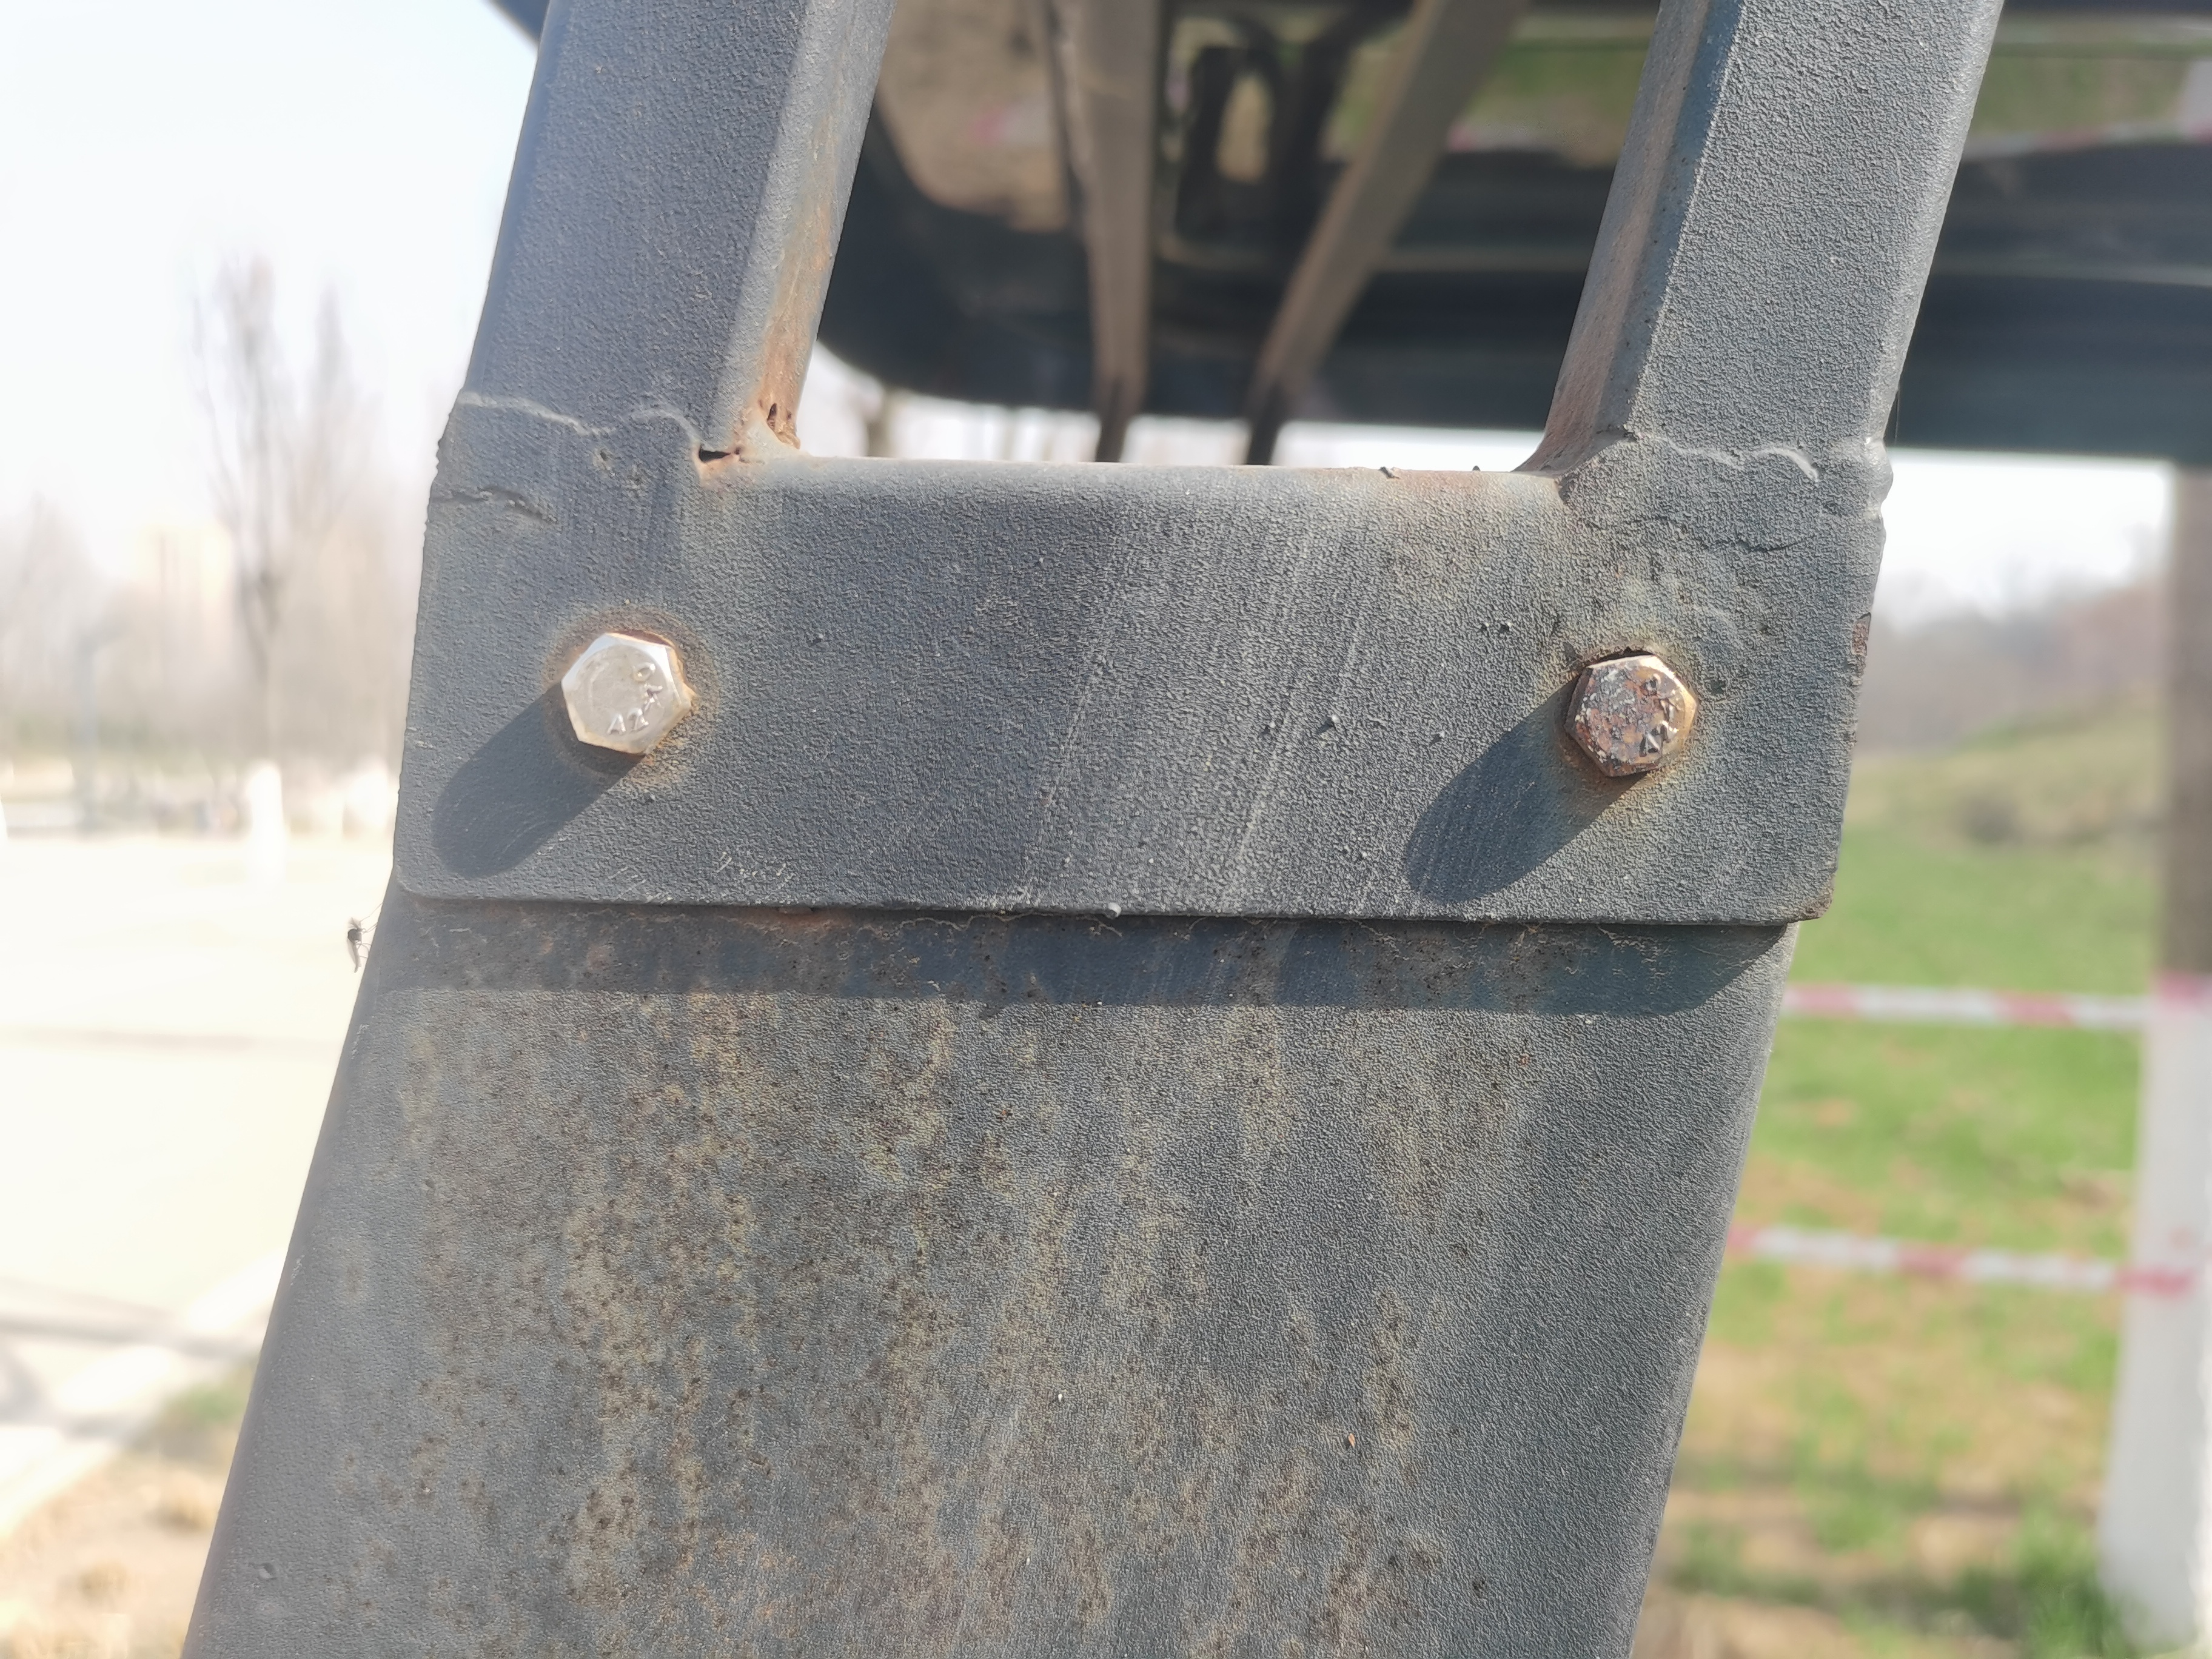bolt_a: (1554, 645, 1702, 784), (559, 631, 693, 758)
